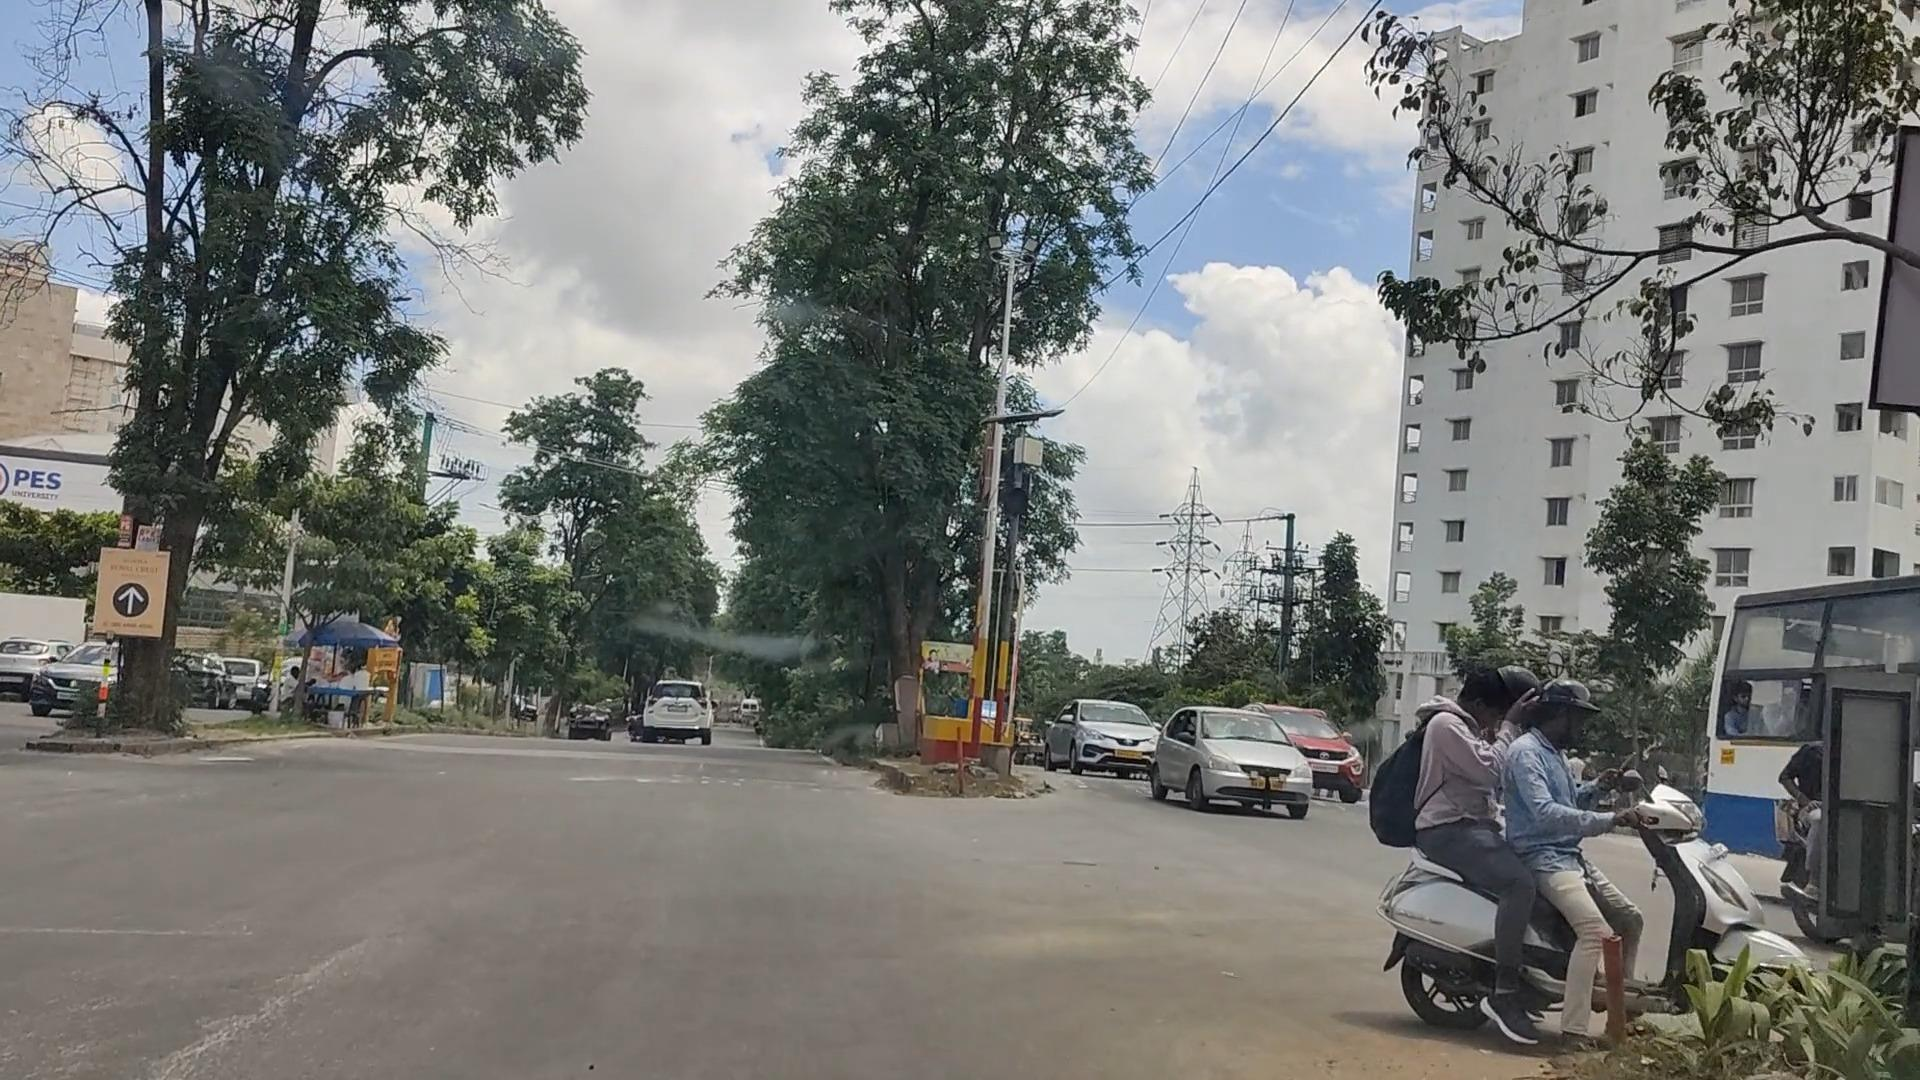RoadDamages: (148, 897, 371, 1080)
